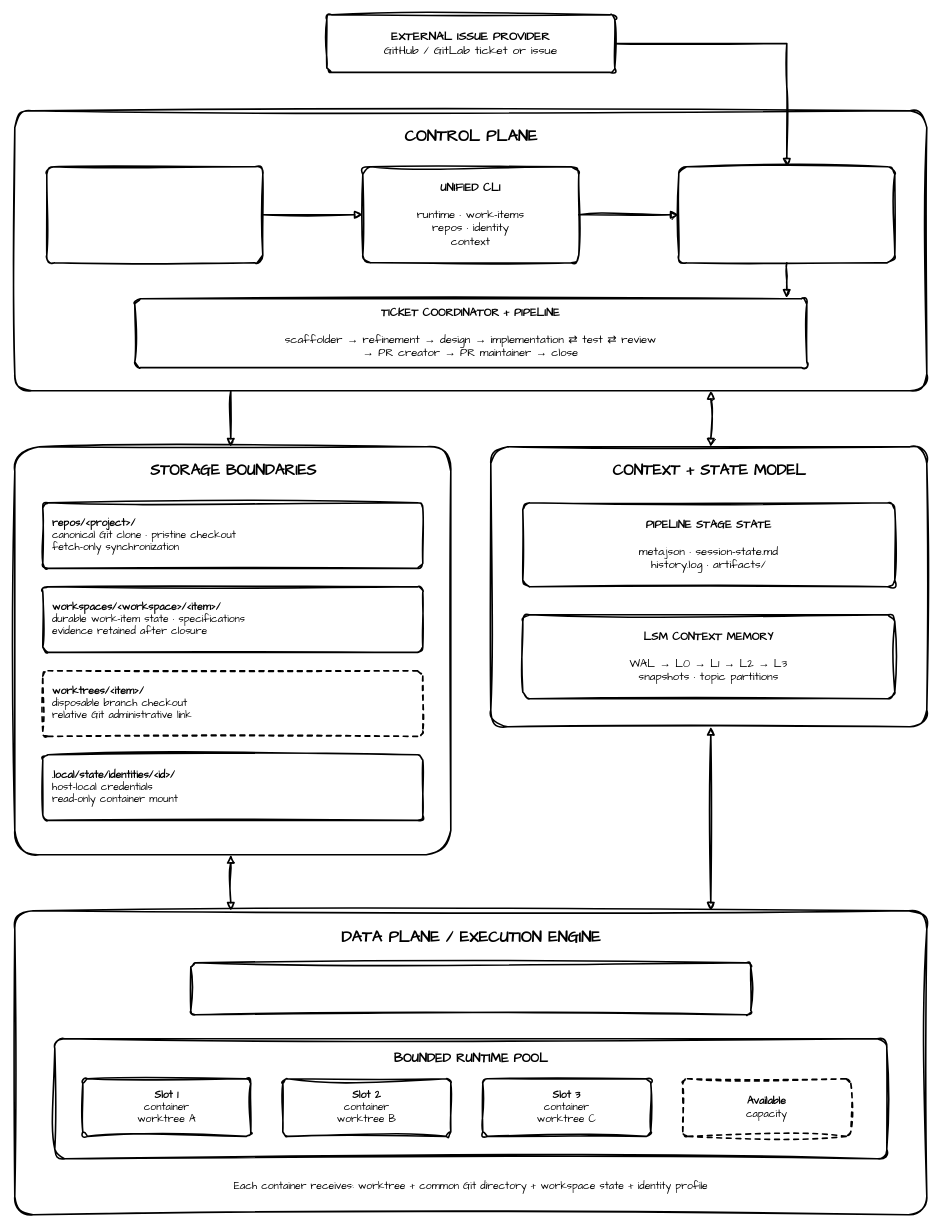
Image size: 941x1229. Some labels were removed from this diagram. The shapes that lost their labels are listed below. From the top down, each one's centre as x and y in pixels, then its label:
At (x=154, y=214): "AGENT INTERFACES Antigravity Claude Code Codex".
At (x=786, y=214): "PROVIDER INTAKE read external issue normalize ticket resolve project".
At (x=470, y=988): "HOST / EXECUTION VM Docker daemon · Dev Container CLI".
